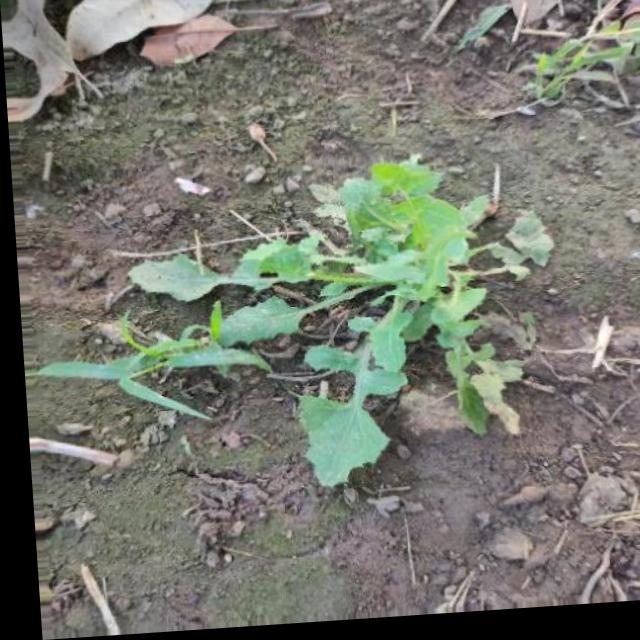weed: (48, 116, 583, 519)
